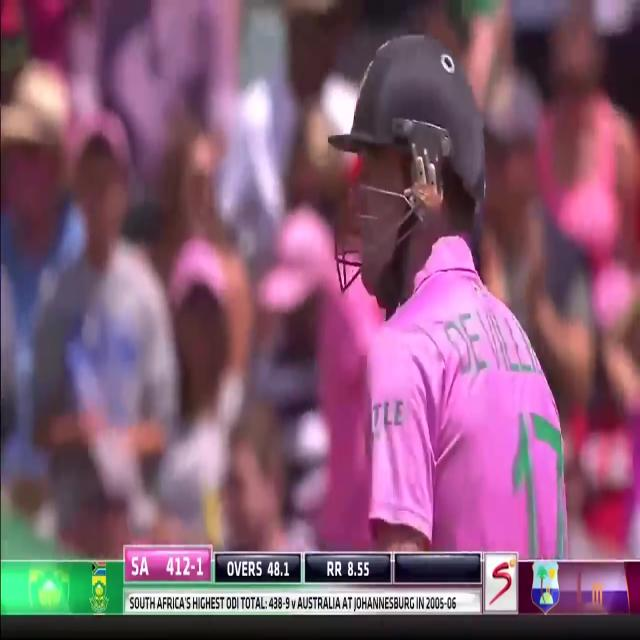Ball: (298, 12, 566, 550)
